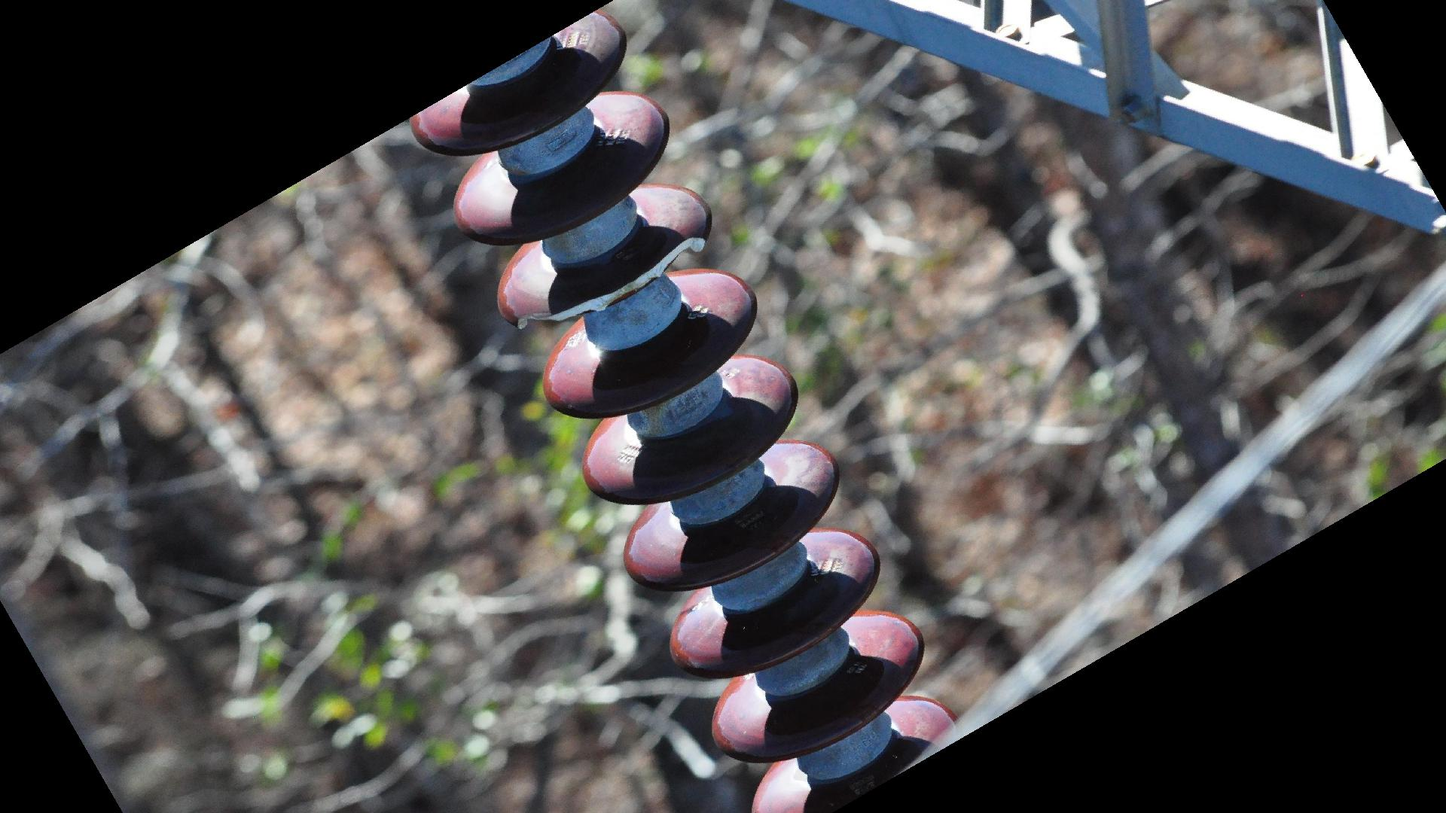insulator: (405, 9, 969, 813)
insulator_breakage: (506, 227, 711, 335)
